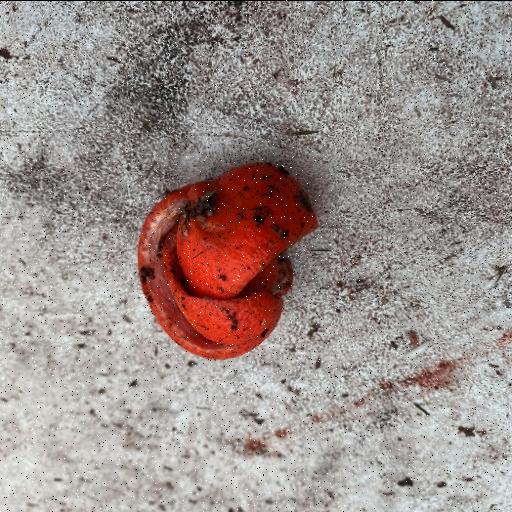Waste: (136, 160, 320, 360)
